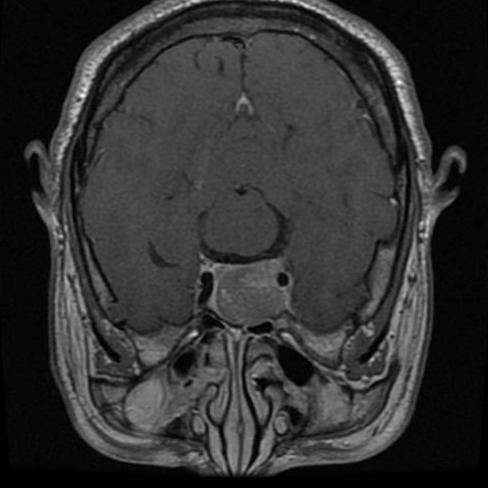Tumour-Pituitary: (196, 254, 301, 327)
